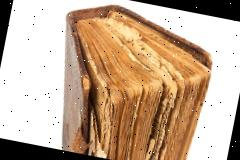paper: (41, 0, 220, 160)
